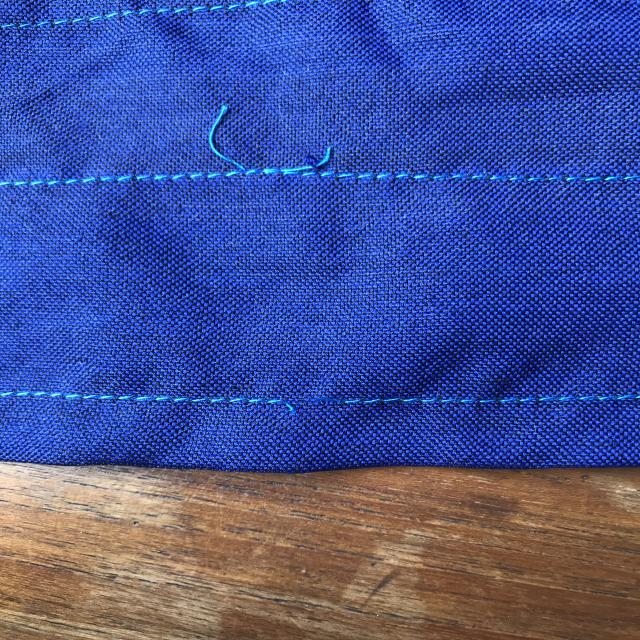broken: (255, 373, 392, 436)
